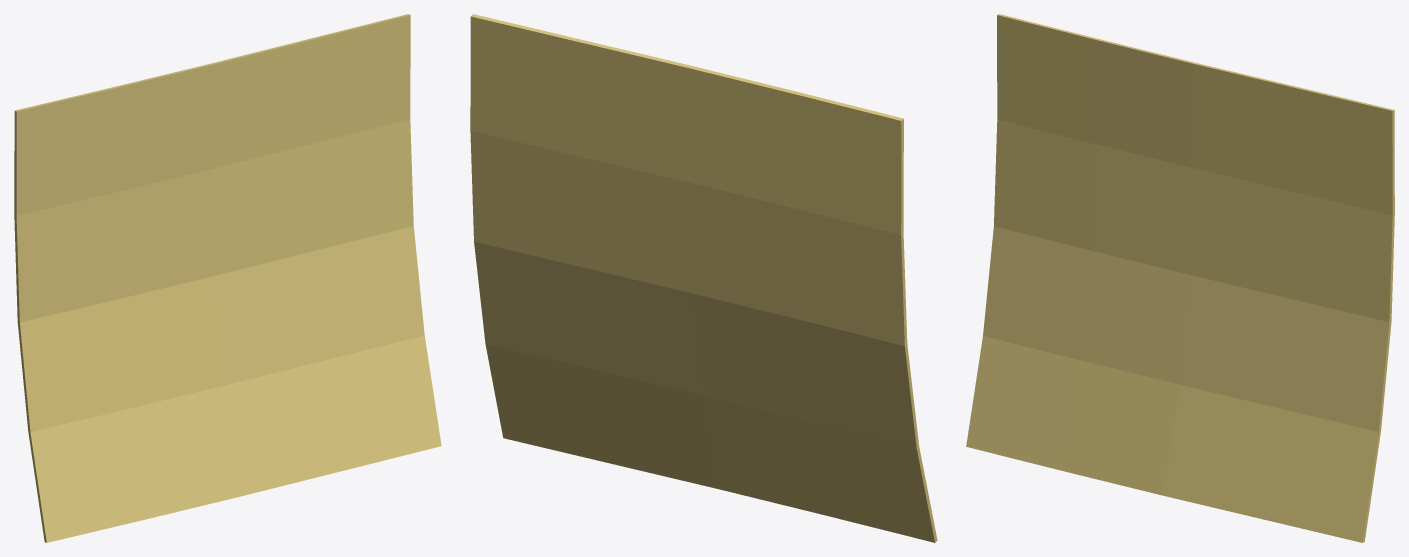
The model's file is Lap2.fbx.
3 views of the same model, side by side, from view 1: azimuth 30°, elevation 25°; view 2: azimuth 150°, elevation 25°; view 3: azimuth 330°, elevation 25° (orthographic). The views are drawn at different scales.
Parts seen in each view (by area): view 1: Lap.001; view 2: Lap.001; view 3: Lap.001.
Part boxes in pixels (box(x1,y1,x2,y2)): Lap.001: box(14, 14, 441, 542); Lap.001: box(470, 14, 937, 542); Lap.001: box(966, 14, 1394, 542).
Size of the model in its own units: 13.49 by 13.35 by 2.03.
